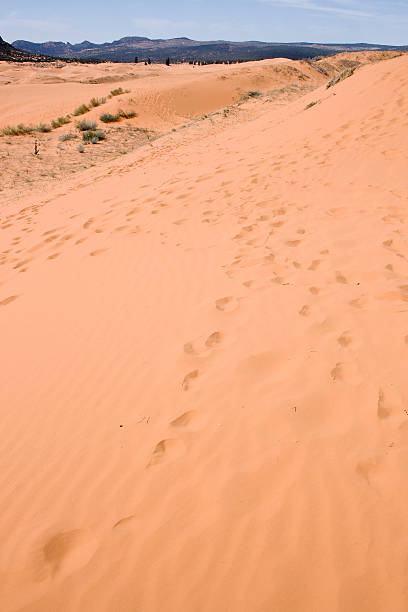human_footprint: (32, 529, 97, 580), (247, 200, 293, 254), (377, 368, 408, 432), (295, 279, 322, 322), (376, 235, 406, 272), (147, 438, 184, 467), (183, 331, 222, 355), (332, 262, 356, 298), (169, 409, 204, 430), (252, 152, 276, 178), (172, 188, 209, 204), (80, 218, 110, 236), (336, 367, 364, 386), (38, 228, 63, 246), (170, 410, 196, 427), (128, 204, 150, 222), (181, 369, 198, 390), (215, 296, 238, 311), (337, 331, 353, 348), (205, 331, 222, 347), (0, 295, 17, 305), (89, 248, 107, 256)
